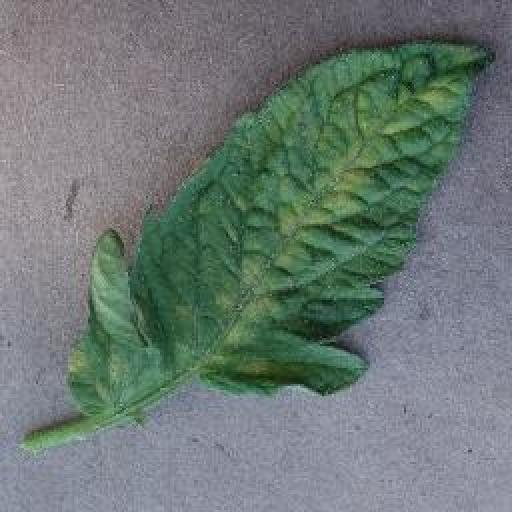disease_tomato: (66, 39, 496, 412)
